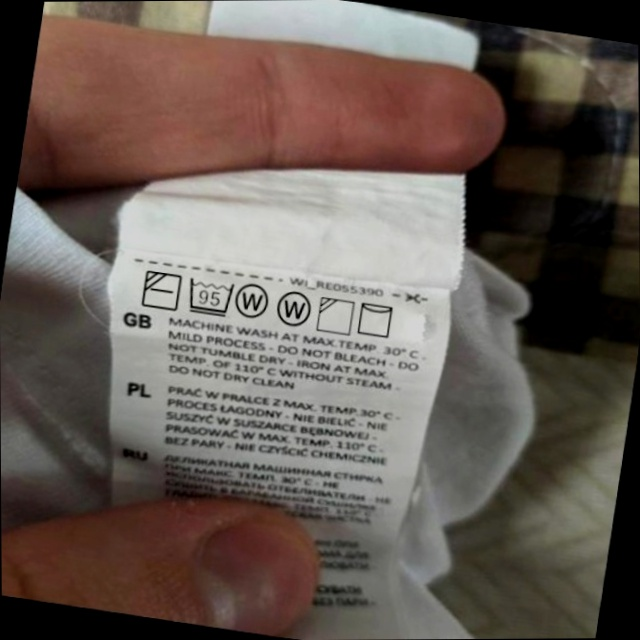95C: (183, 274, 237, 319)
dry_flat_in_shade: (138, 266, 184, 314)
line_dry: (354, 297, 399, 341)
shade_dry: (314, 293, 358, 338)
wet_clean: (273, 287, 315, 332), (233, 277, 274, 323)
